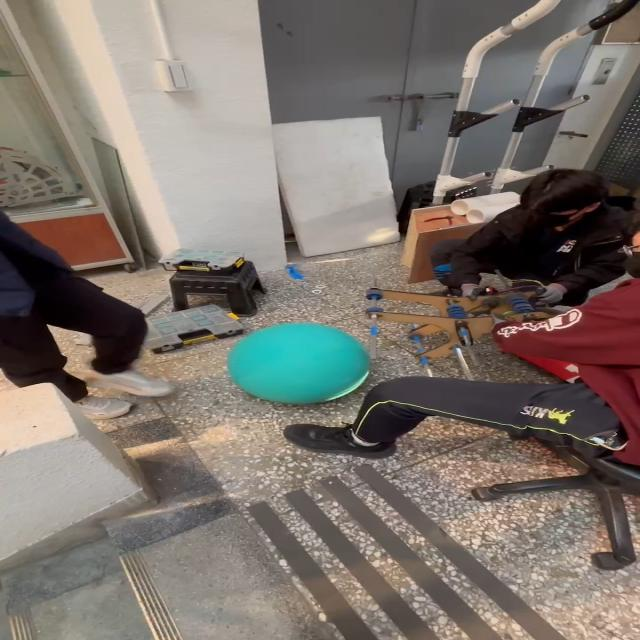ALGAE: (224, 321, 372, 405)
